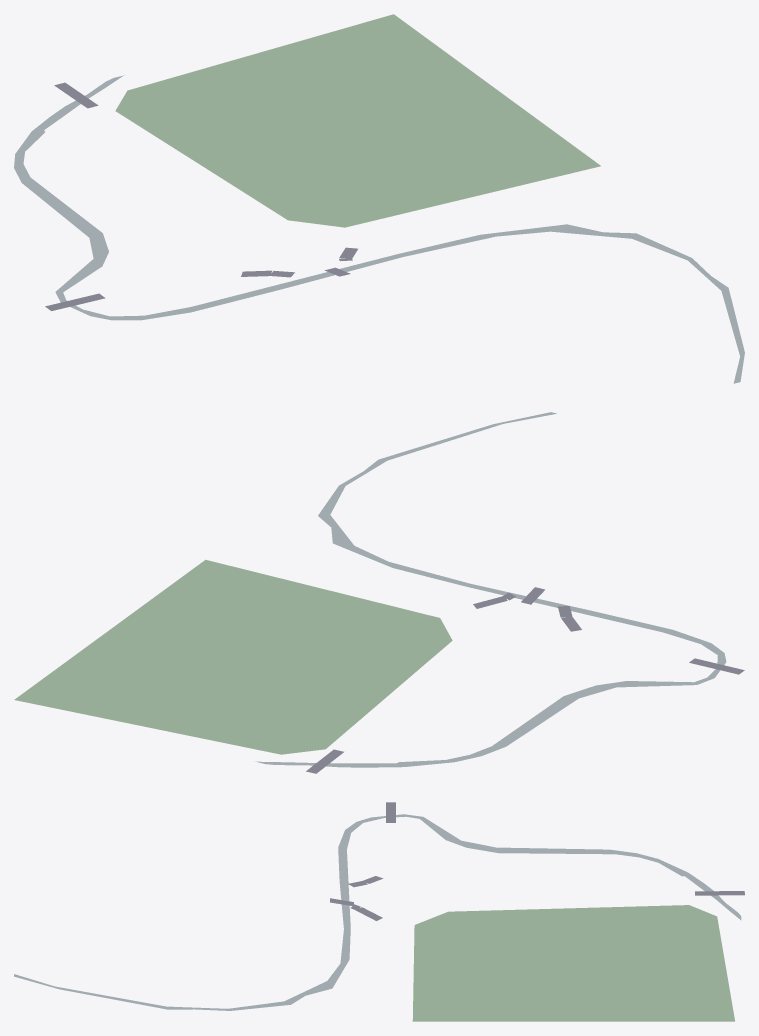
File: 120_124_mid.glb
3 views of the same model, one above another, from view 1: azimuth 30°, elevation 25°; view 2: azimuth 150°, elevation 25°; view 3: azimuth 270°, elevation 25° (orthographic). The views are drawn at different scales.
Size of the model in its own units: 350 by 3.75 by 502.
